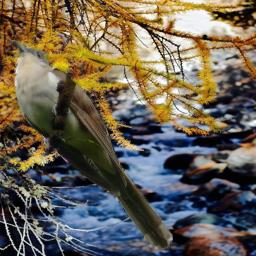Cuckoo: (12, 40, 173, 250)
